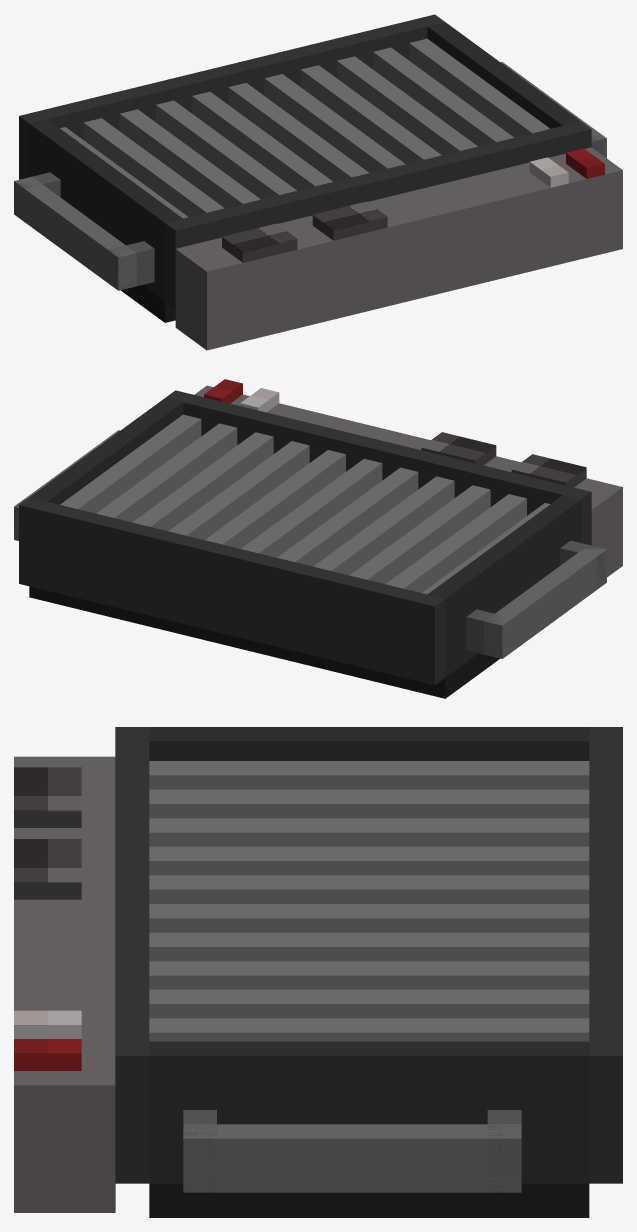
File: CMU3DElectricGrillCloud.glb
The picture shows the model from 3 angles, top to bottom: view 1: azimuth 30°, elevation 25°; view 2: azimuth 150°, elevation 25°; view 3: azimuth 270°, elevation 25°; orthographic projection. The views are drawn at different scales.
Visible parts, largest first — view 1: front control rail, front rim, rear rim, left rim, left handle outer bridge, separate cooking bar 2, separate cooking bar 7, separate cooking bar 1, separate cooking bar 6, separate cooking bar 10, separate cooking bar 5, separate cooking bar 4 (+12 smaller); view 2: rear rim, front rim, left rim, left handle outer bridge, recessed grease tray, front control rail, separate cooking bar 5, separate cooking bar 10, separate cooking bar 4, separate cooking bar 3, separate cooking bar 9, separate cooking bar 8 (+10 smaller); view 3: right rim, front control rail, right handle outer bridge, front rim, rear rim, left rim, separate cooking bar 1, separate cooking bar 3, separate cooking bar 6, separate cooking bar 8, separate cooking bar 0, separate cooking bar 2 (+15 smaller).
Part boxes in pixels (x1,y1,x2,y2): front control rail: (175,147,622,350); front rim: (165,121,591,309); rear rim: (19,14,444,179); left rim: (29,119,182,301); left handle outer bridge: (14,176,136,290); separate cooking bar 2: (119,109,260,208); separate cooking bar 7: (300,65,441,163); separate cooking bar 1: (83,118,224,216); separate cooking bar 6: (264,74,405,172); separate cooking bar 10: (409,38,550,137); separate cooking bar 5: (228,83,368,181); separate cooking bar 4: (192,91,332,190); rear rim: (19,497,445,685); front rim: (165,390,591,545); left rim: (427,495,581,677); left handle outer bridge: (484,546,606,658); recessed grease tray: (29,586,499,698); front control rail: (194,385,622,577); separate cooking bar 5: (241,458,382,557); separate cooking bar 10: (60,414,201,513); separate cooking bar 4: (277,467,418,566); separate cooking bar 3: (313,476,454,575); separate cooking bar 9: (96,423,237,522); separate cooking bar 8: (132,432,273,531); right rim: (149,1041,589,1183); front control rail: (14,756,115,1212); right handle outer bridge: (183,1124,521,1192); front rim: (115,727,149,1183); rear rim: (589,727,622,1183); left rim: (149,727,589,760); separate cooking bar 1: (149,789,589,818); separate cooking bar 3: (149,846,589,875); separate cooking bar 6: (149,932,589,961); separate cooking bar 8: (149,989,589,1018); separate cooking bar 0: (149,761,589,789); separate cooking bar 2: (149,818,589,846).
Size of the model in its own units: 0.8438 by 0.165 by 0.5625.
14 materials, 4 textured.
